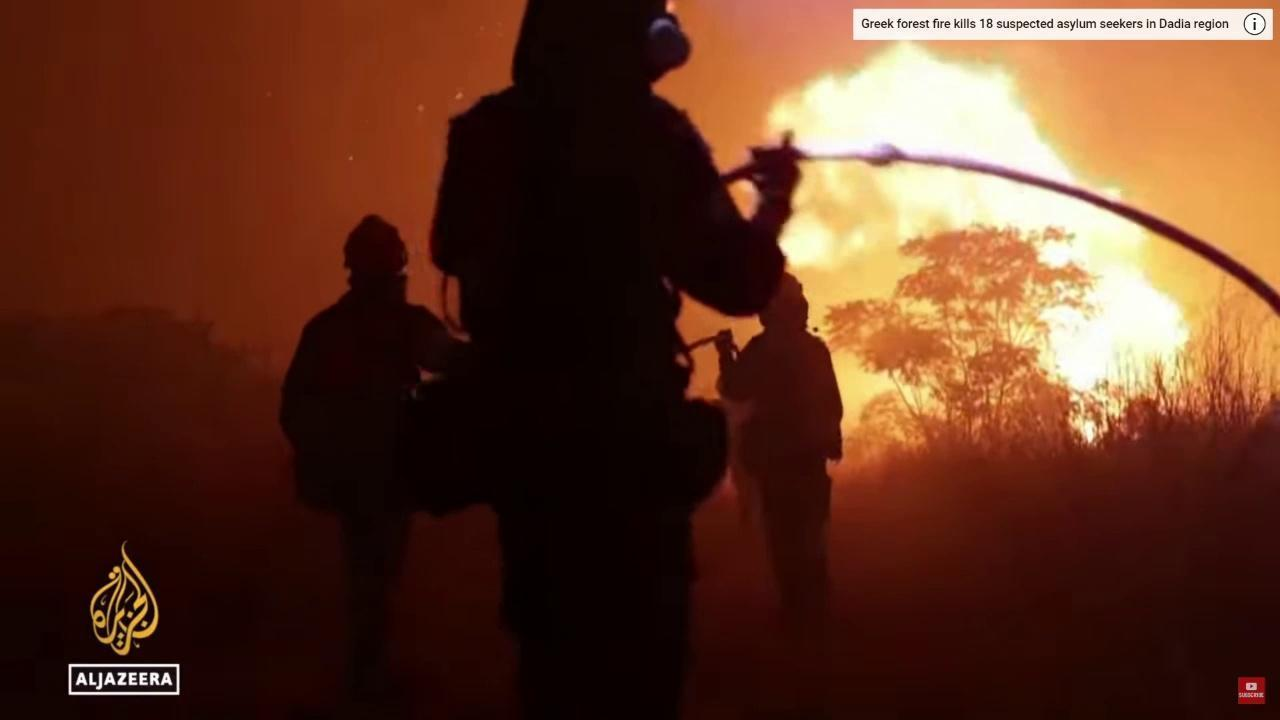fire: (744, 45, 1194, 445)
smoke: (0, 0, 1280, 720)
